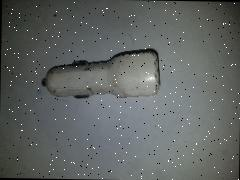electronic: (80, 80, 199, 132)
